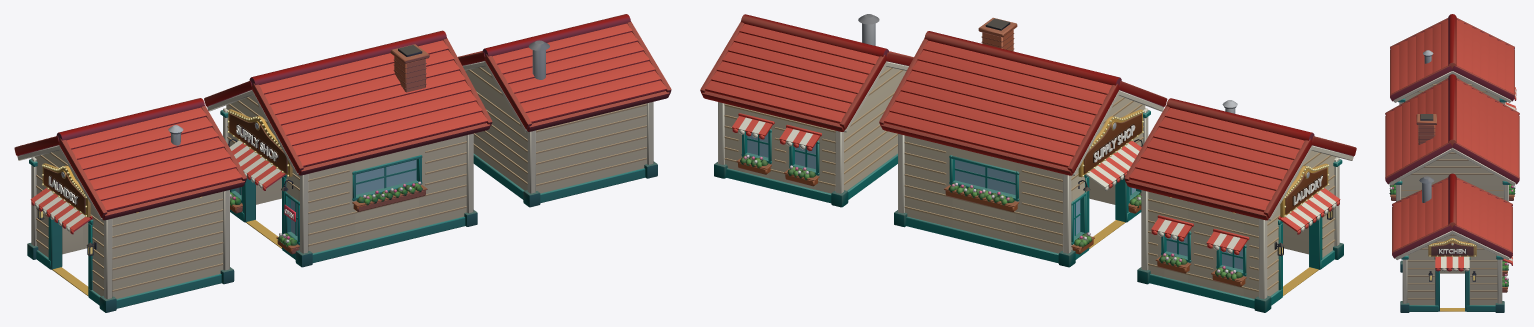
File: motel_kit_annex.fbx
3 renders of one model, left to right at view 1: azimuth 30°, elevation 25°; view 2: azimuth 150°, elevation 25°; view 3: azimuth 270°, elevation 25°, orthographic. The views are drawn at different scales.
Visible parts, largest first — view 1: SM_Bld_ShopV2_Roof, SM_Bld_LinenShedV2_Roof, SM_Bld_KitchenV2_Roof, SM_Bld_LinenShedV2_Walls, SM_Bld_ShopV2_Walls, SM_Bld_KitchenV2_Walls, SM_Bld_ShopV2_Trim, SM_Bld_LinenShedV2_Trim, SM_Bld_KitchenV2_Trim, SM_Bld_ShopV2_Flowers, SM_Bld_ShopV2_Sign, SM_Bld_ShopV2_Glass (+5 smaller); view 2: SM_Bld_ShopV2_Roof, SM_Bld_LinenShedV2_Roof, SM_Bld_KitchenV2_Roof, SM_Bld_ShopV2_Walls, SM_Bld_LinenShedV2_Walls, SM_Bld_KitchenV2_Walls, SM_Bld_ShopV2_Trim, SM_Bld_LinenShedV2_Trim, SM_Bld_KitchenV2_Trim, SM_Bld_LinenShedV2_Awning, SM_Bld_ShopV2_Flowers, SM_Bld_ShopV2_Sign (+10 smaller); view 3: SM_Bld_ShopV2_Roof, SM_Bld_LinenShedV2_Roof, SM_Bld_KitchenV2_Roof, SM_Bld_KitchenV2_Walls, SM_Bld_KitchenV2_Trim, SM_Bld_ShopV2_Walls, SM_Bld_ShopV2_Trim, SM_Bld_KitchenV2_Sign, SM_Bld_LinenShedV2_Trim, SM_Bld_KitchenV2_Awning, SM_Bld_KitchenV2_Glow, SM_Bld_LinenShedV2_Walls (+2 smaller).
Part boxes in pixels (x1,y1,x2,y2): SM_Bld_ShopV2_Roof: [204, 30, 492, 175]; SM_Bld_LinenShedV2_Roof: [14, 98, 246, 220]; SM_Bld_KitchenV2_Roof: [458, 14, 671, 131]; SM_Bld_LinenShedV2_Walls: [34, 150, 223, 298]; SM_Bld_ShopV2_Walls: [226, 95, 466, 253]; SM_Bld_KitchenV2_Walls: [465, 66, 646, 193]; SM_Bld_ShopV2_Trim: [207, 90, 477, 267]; SM_Bld_LinenShedV2_Trim: [17, 145, 234, 312]; SM_Bld_KitchenV2_Trim: [462, 61, 657, 207]; SM_Bld_ShopV2_Flowers: [230, 181, 427, 254]; SM_Bld_ShopV2_Sign: [228, 109, 292, 176]; SM_Bld_ShopV2_Glass: [235, 159, 416, 235]; SM_Bld_ShopV2_Roof: [879, 17, 1167, 175]; SM_Bld_LinenShedV2_Roof: [1124, 98, 1356, 220]; SM_Bld_KitchenV2_Roof: [700, 14, 913, 131]; SM_Bld_ShopV2_Walls: [904, 95, 1145, 253]; SM_Bld_LinenShedV2_Walls: [1148, 150, 1336, 298]; SM_Bld_KitchenV2_Walls: [724, 66, 906, 193]; SM_Bld_ShopV2_Trim: [894, 90, 1163, 267]; SM_Bld_LinenShedV2_Trim: [1137, 145, 1353, 312]; SM_Bld_KitchenV2_Trim: [714, 61, 908, 207]; SM_Bld_LinenShedV2_Awning: [1151, 188, 1340, 254]; SM_Bld_ShopV2_Flowers: [944, 183, 1141, 254]; SM_Bld_ShopV2_Sign: [1078, 109, 1142, 177]; SM_Bld_ShopV2_Roof: [1385, 74, 1519, 184]; SM_Bld_LinenShedV2_Roof: [1390, 14, 1514, 101]; SM_Bld_KitchenV2_Roof: [1392, 173, 1512, 258]; SM_Bld_KitchenV2_Walls: [1407, 235, 1497, 305]; SM_Bld_KitchenV2_Trim: [1395, 230, 1509, 312]; SM_Bld_ShopV2_Walls: [1401, 151, 1503, 199]; SM_Bld_ShopV2_Trim: [1389, 148, 1515, 201]; SM_Bld_KitchenV2_Sign: [1428, 238, 1476, 256]; SM_Bld_LinenShedV2_Trim: [1393, 71, 1511, 104]; SM_Bld_KitchenV2_Awning: [1435, 255, 1512, 271]; SM_Bld_KitchenV2_Glow: [1429, 239, 1475, 280]; SM_Bld_LinenShedV2_Walls: [1405, 76, 1499, 101].
Size of the model in its own units: 73.73 by 20.35 by 21.02.
